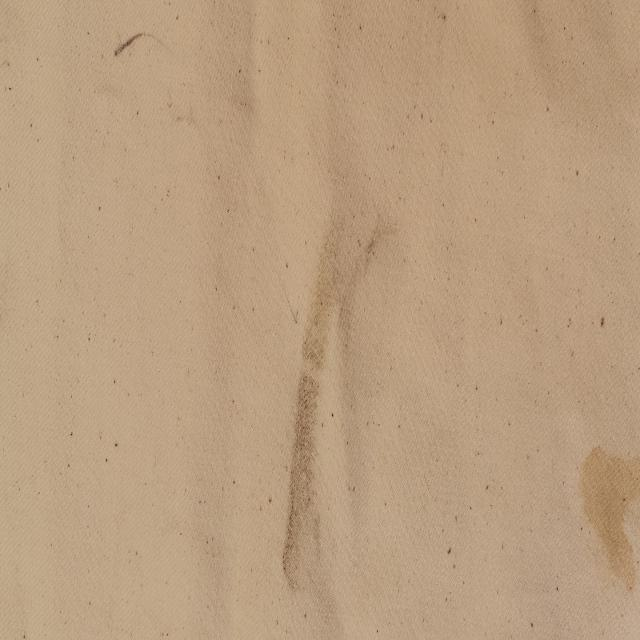taaaches: (272, 171, 403, 626), (573, 410, 640, 621), (111, 16, 149, 68)
